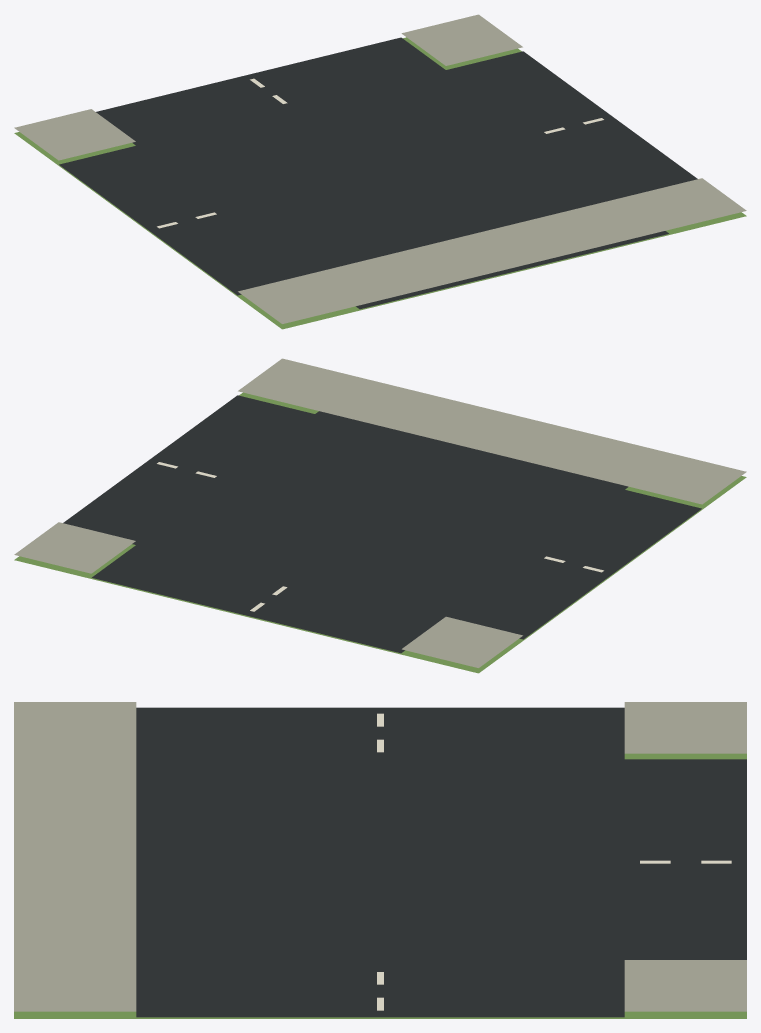
Rendered from RoadTee.obj.
3 views of the same model, one above another, from view 1: azimuth 30°, elevation 25°; view 2: azimuth 150°, elevation 25°; view 3: azimuth 270°, elevation 25° (orthographic). The views are drawn at different scales.
Parts seen in each view (by area): view 1: RoadTee; view 2: RoadTee; view 3: RoadTee.
Part boxes in pixels (left/top/right/bottom): RoadTee: left=14, top=14, right=746, bottom=329; RoadTee: left=14, top=358, right=746, bottom=673; RoadTee: left=14, top=702, right=746, bottom=1018.
Size of the model in its own units: 12 by 0.13 by 12.
